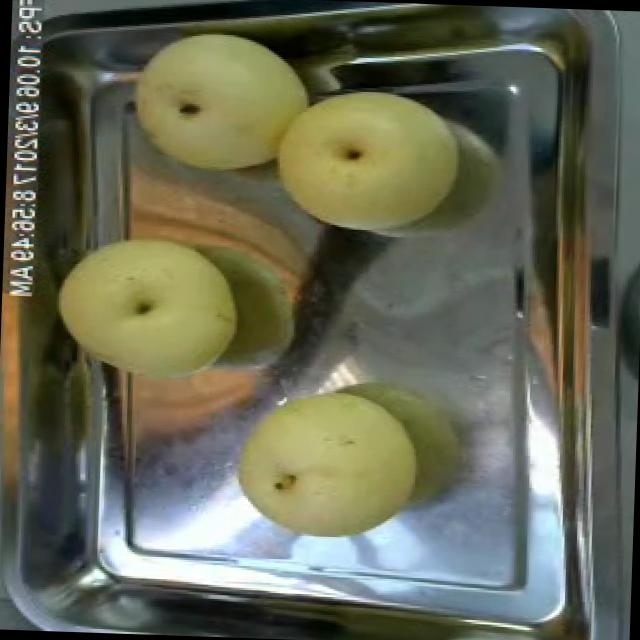Fruit: (215, 374, 432, 554), (37, 218, 254, 396), (116, 11, 326, 192), (256, 74, 470, 251)
